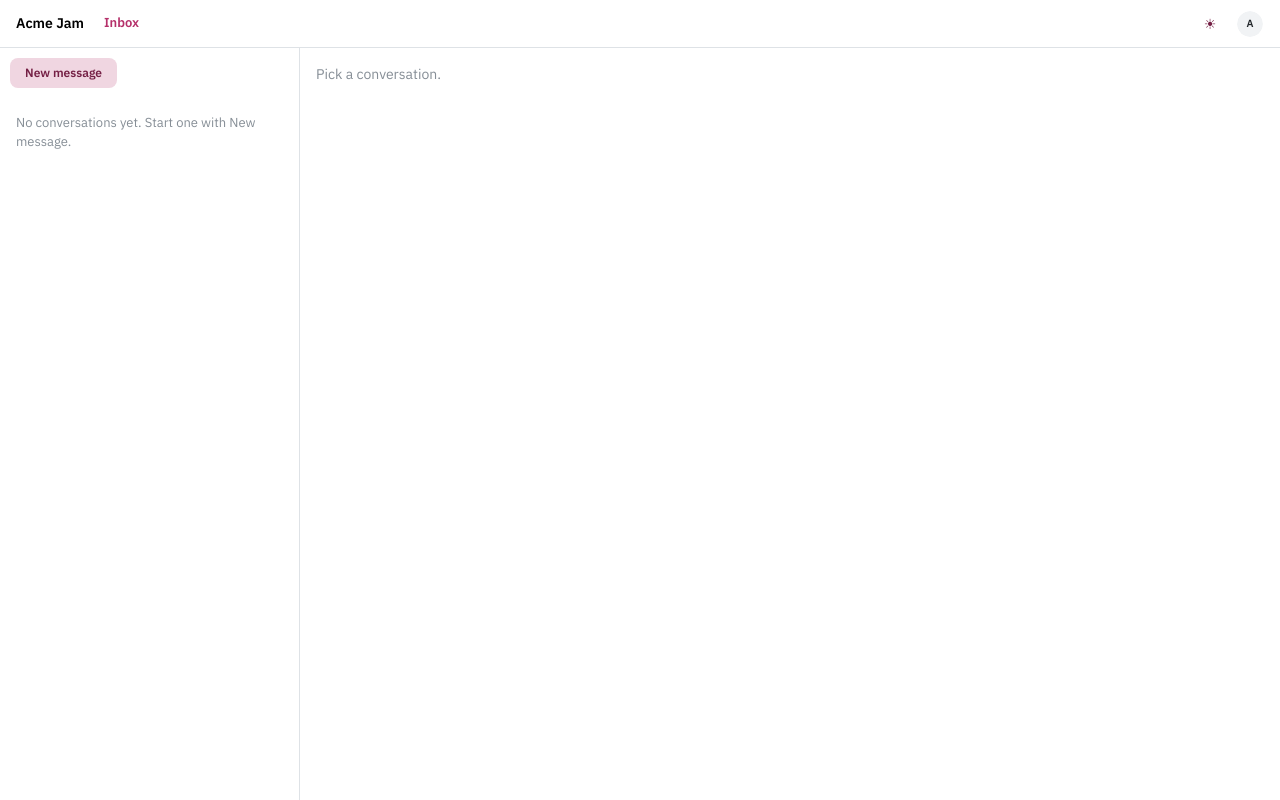
Test: the principal menu › offers Notifications when Web Push is on, and turns it on
The image size is (1280, 800).
Click the button named "Account": (1250, 24) [1236,10,1264,38]
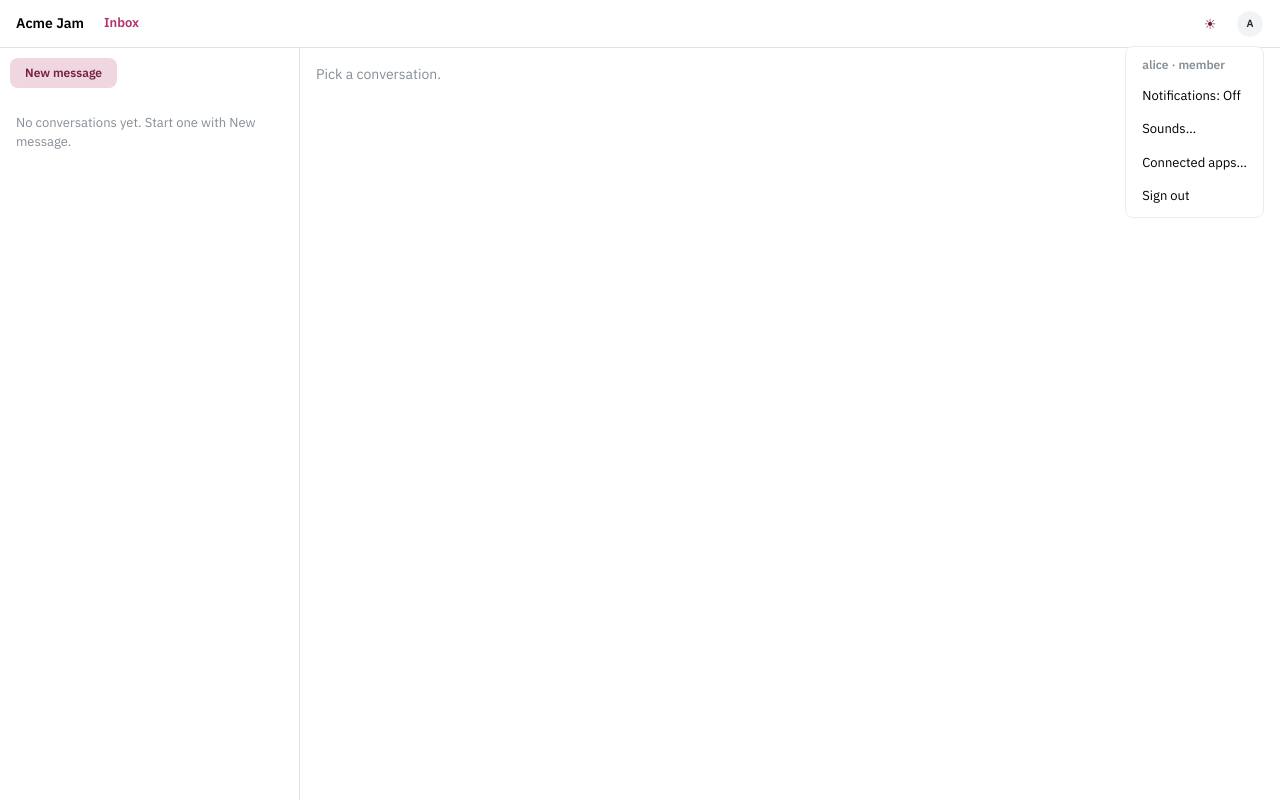
Click the menu item "Notifications: Off": (1195, 96) [1130,79,1259,113]
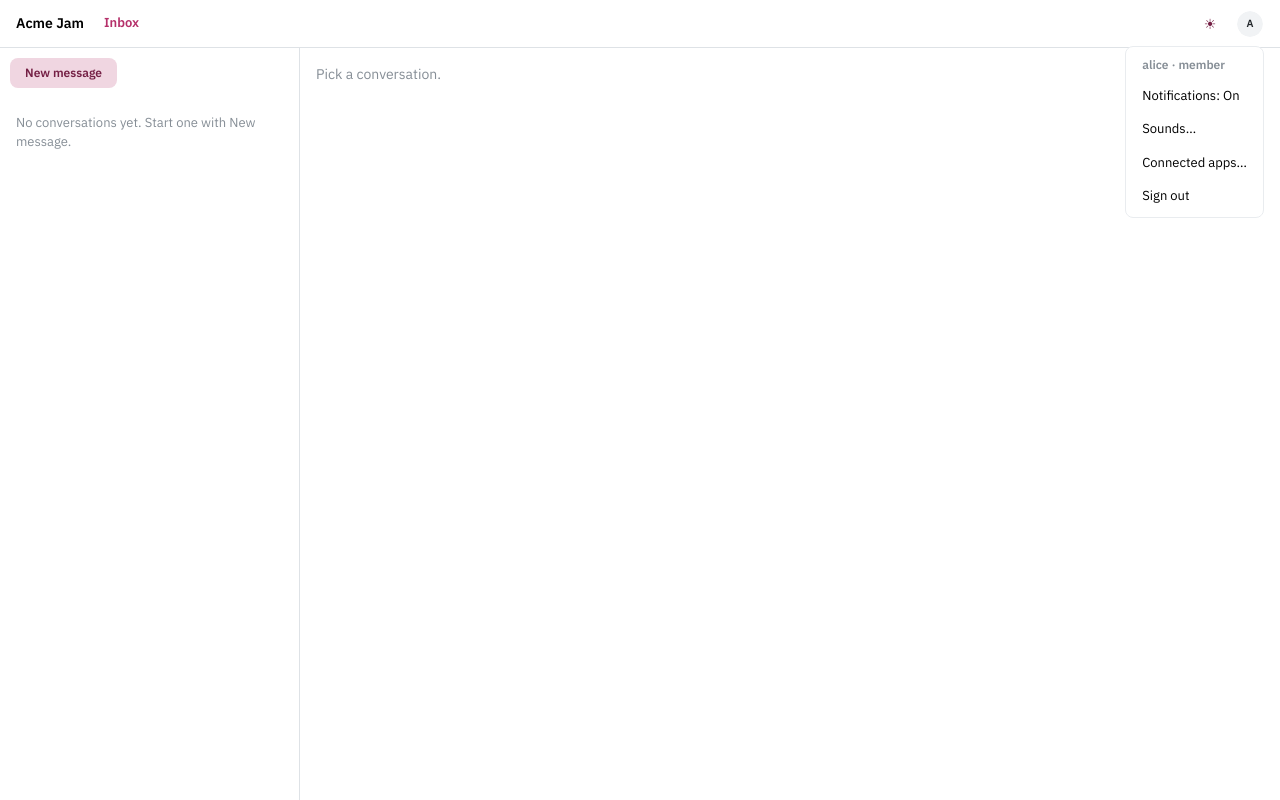
Now the menu item "Notifications: On" is shown, box [1130,79,1259,113]
